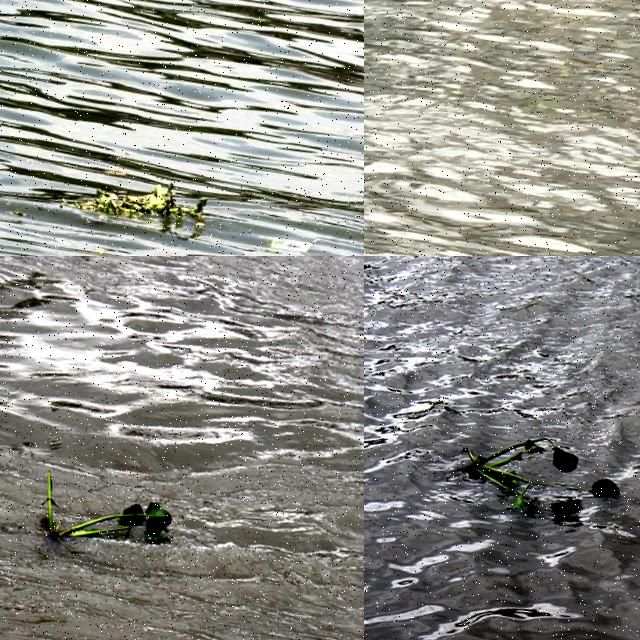water-hyacinth: (455, 423, 639, 520), (34, 471, 182, 561), (76, 165, 214, 239)
